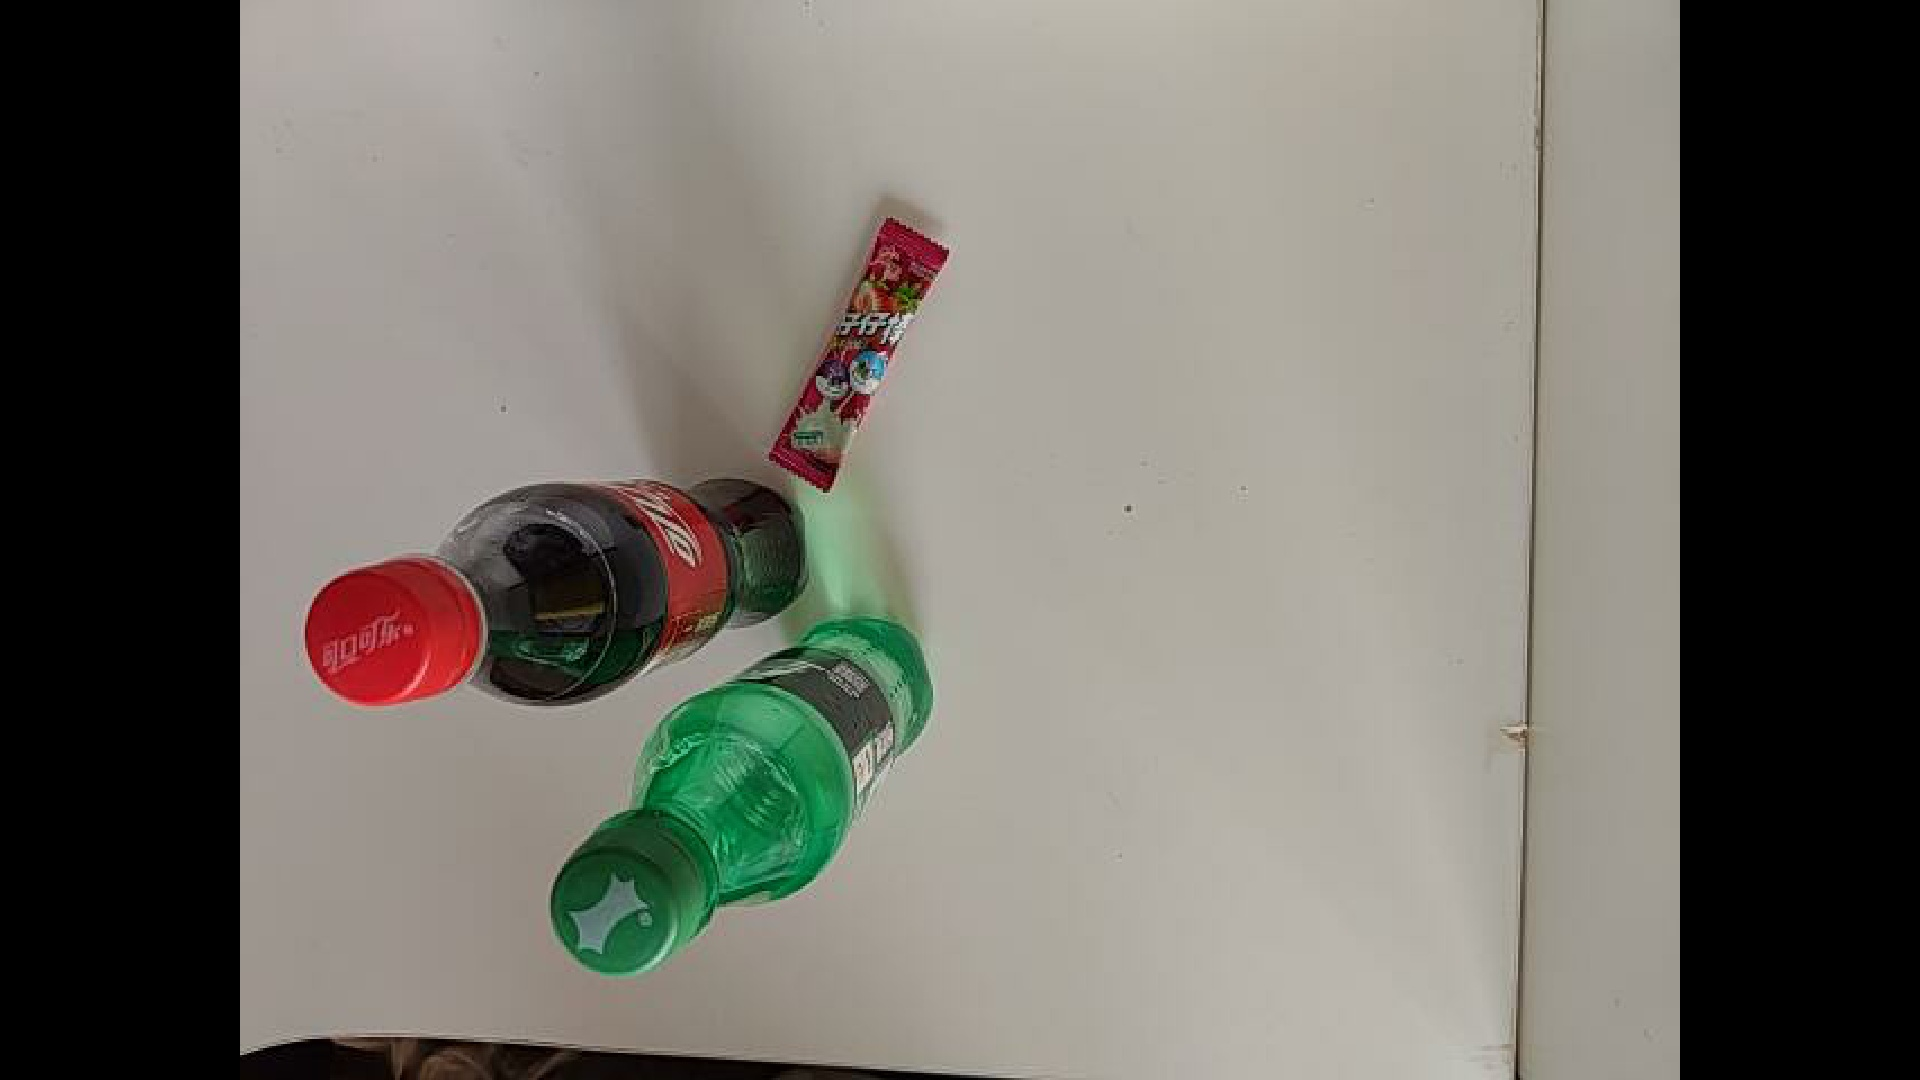cola: (274, 473, 910, 799)
sprite: (378, 560, 998, 902)
sugar: (659, 212, 957, 480)
